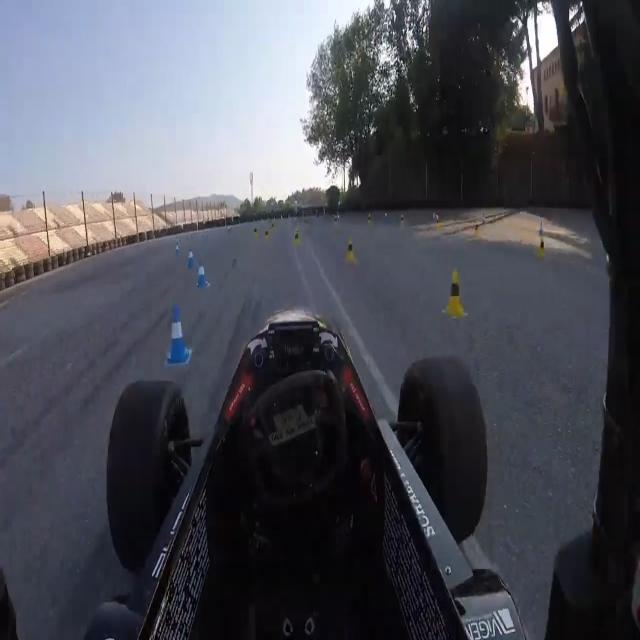blue_cone: (163, 306, 189, 363), (198, 259, 208, 287), (188, 250, 195, 270), (539, 220, 545, 236), (175, 242, 180, 258)
yellow_cone: (444, 269, 466, 318), (344, 239, 356, 265), (536, 236, 545, 262), (293, 228, 300, 248), (436, 213, 442, 233), (473, 223, 479, 240), (400, 213, 405, 232), (264, 228, 270, 243), (366, 213, 371, 227), (254, 228, 258, 242)
